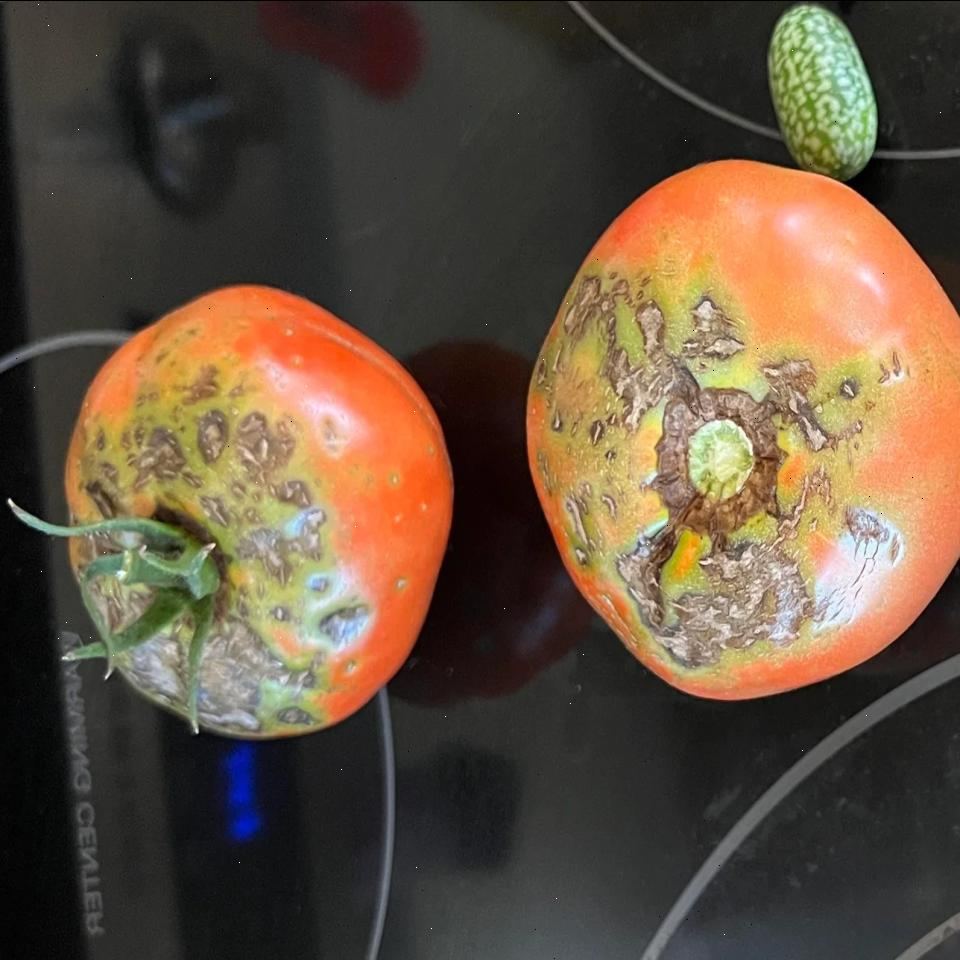Spotted wilt Virus: (520, 160, 960, 696), (64, 295, 458, 737)
